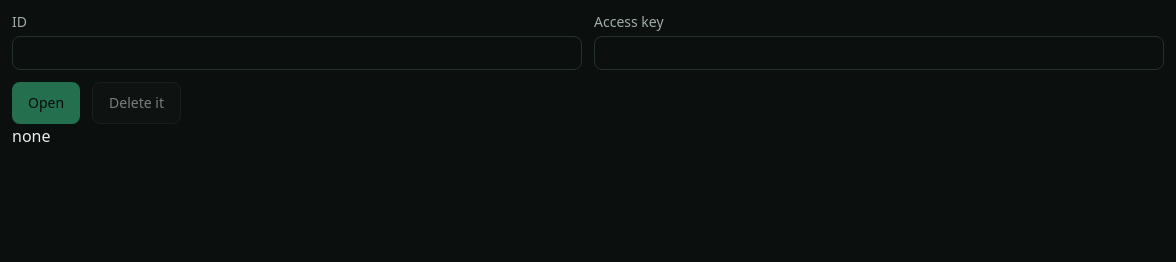
Test: OpenSavedForm › says plainly when the ID or key is wrong, without saying which
Type "123e4567-e89b-12d3-a456-426614174000" into the field labelled "ID" at {"x": 297, "y": 53}, box [12,36,582,70]
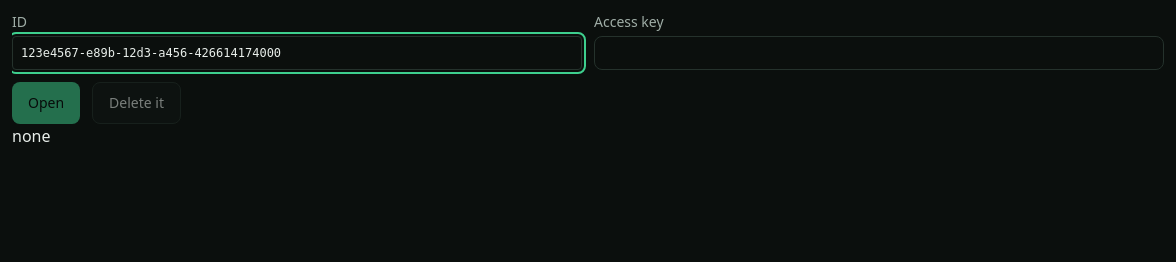
Type "wrong-key" into the password field labelled "Access key" at {"x": 879, "y": 53}, box [594,36,1164,70]
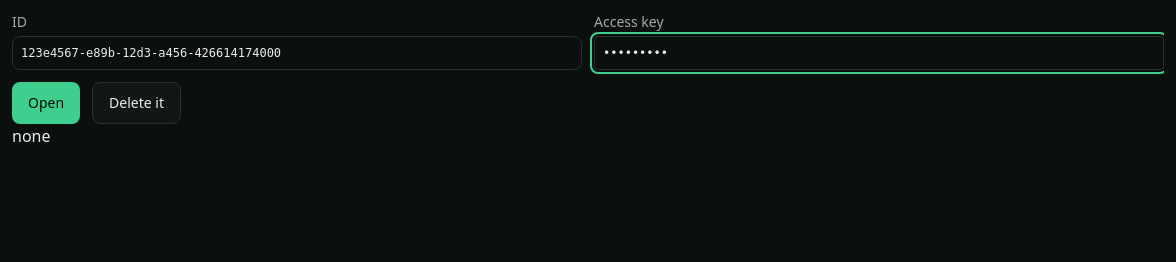
Click the button "Open" at {"x": 46, "y": 103}, box [12,82,80,124]
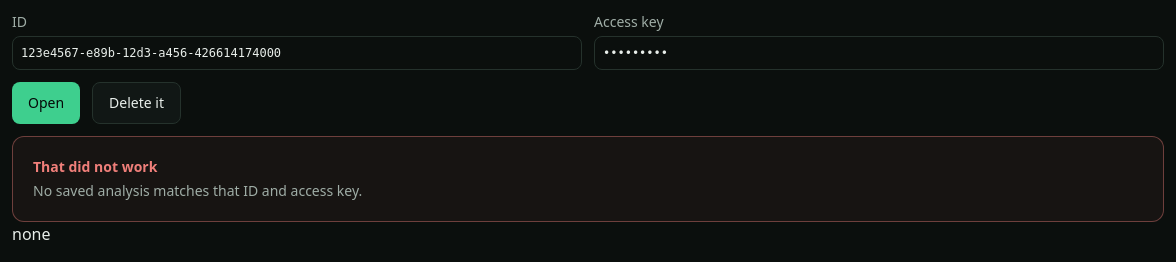
Check: the text with test id "session" reads "none", box [12,223,50,245]
Check: the message shows "No saved analysis matches that ID and access key.", box [33,181,362,200]
